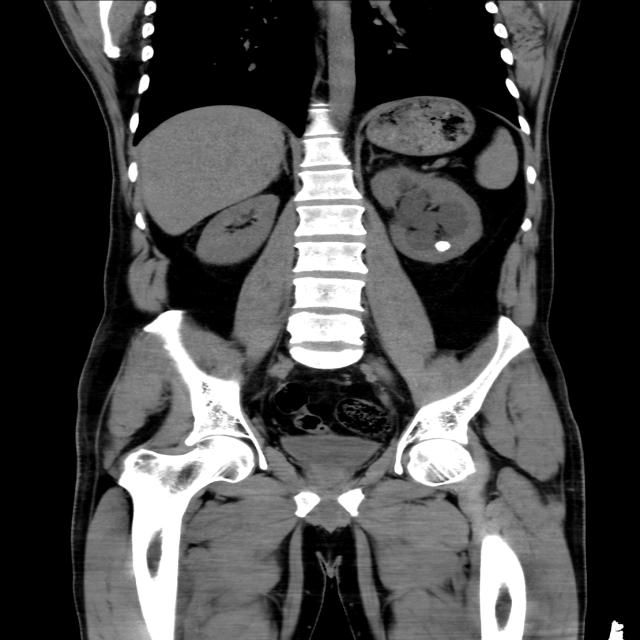kidneystone: (434, 240, 452, 252)
